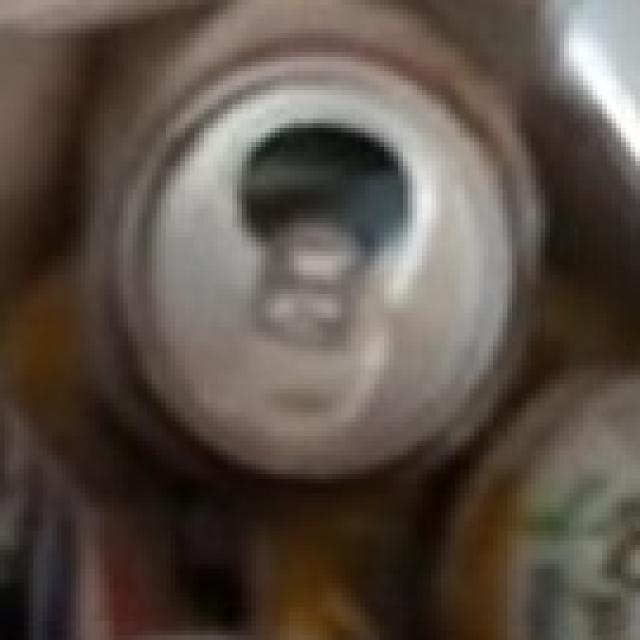can: (14, 0, 640, 597)
